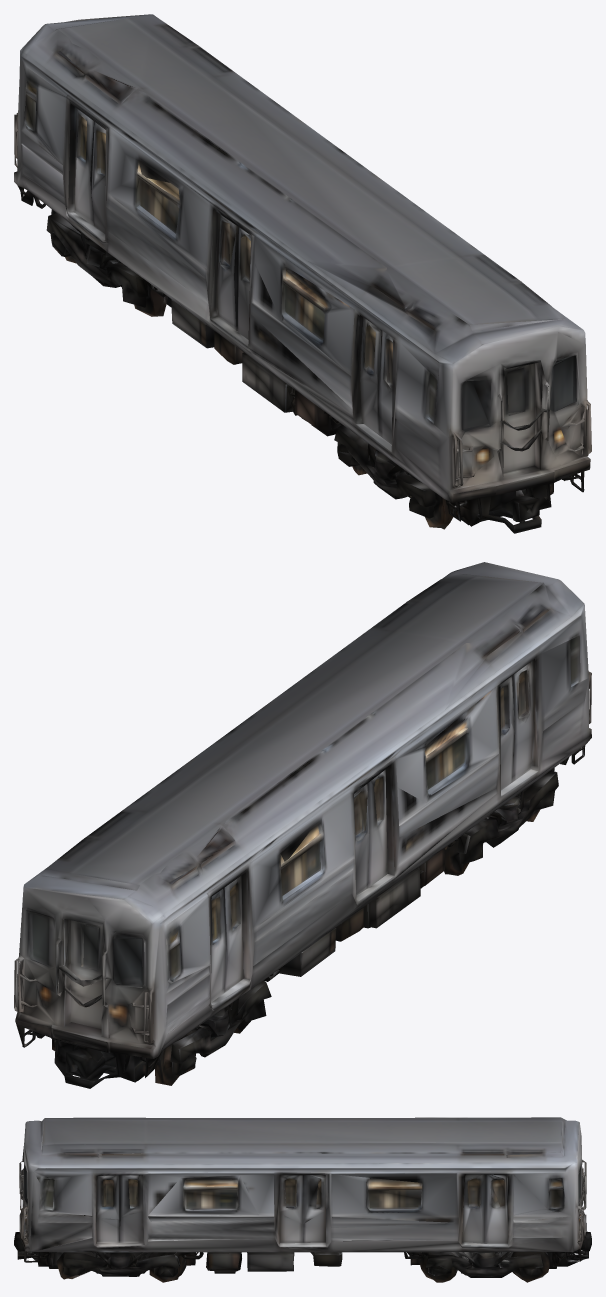
Rendered from train.glb.
3 renders of one model, top to bottom at view 1: azimuth 30°, elevation 25°; view 2: azimuth 150°, elevation 25°; view 3: azimuth 270°, elevation 25°, orthographic. The views are drawn at different scales.
Visible parts, largest first — view 1: convert; view 2: convert; view 3: convert.
Part boxes in pixels (x1,y1,x2,y2): convert: (14, 14, 591, 533); convert: (14, 562, 591, 1088); convert: (14, 1117, 591, 1282).
Size of the model in its own units: 0.2204 by 0.3105 by 1.18.
Materials: 1 (1 with a texture image).
